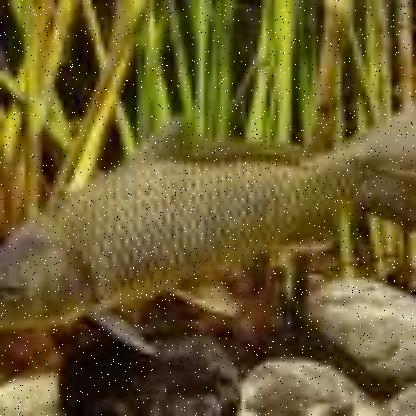ikan-mas: (0, 116, 412, 354)
